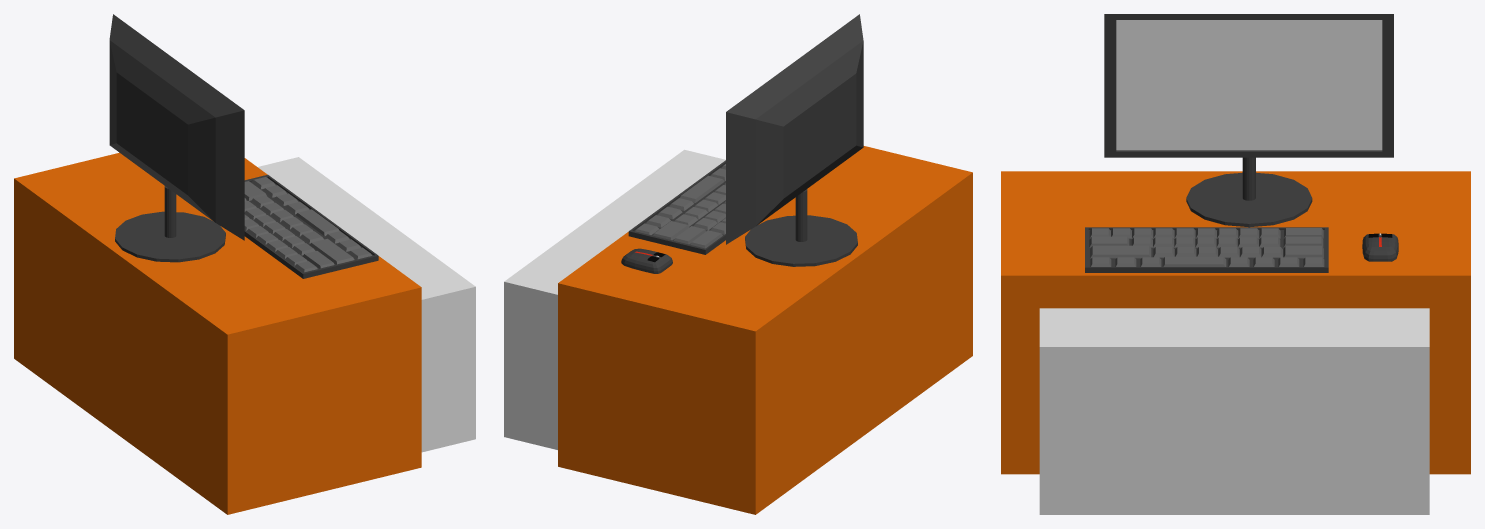
The model's file is Computador.fbx.
The picture shows the model from 3 angles, left to right: view 1: azimuth 30°, elevation 25°; view 2: azimuth 150°, elevation 25°; view 3: azimuth 270°, elevation 25°; orthographic projection. The views are drawn at different scales.
Parts seen in each view (by area): view 1: Cube.004, Cube, Cube.014, Cube.001, Cube.002, Cube.005, Cube.009, Cube.012, Cube.008, Cube.011, Cube.013; view 2: Cube.004, Cube, Cube.014, Cube.001, Cube.007, Cube.012, Cube.009, Cube.013; view 3: Cube.014, Cube.004, Cube, Cube.001, Cube.002, Cube.005, Cube.009, Cube.007, Cube.012, Cube.008, Cube.006, Cube.013 (+2 smaller).
Boxes of the visible parts, x1,y1,x2,y2 form: Cube.004: (14, 152, 421, 514); Cube: (109, 14, 244, 262); Cube.014: (258, 157, 475, 452); Cube.001: (244, 174, 378, 278); Cube.002: (244, 214, 317, 272); Cube.005: (244, 201, 315, 255); Cube.009: (251, 195, 323, 243); Cube.012: (251, 177, 309, 214); Cube.008: (309, 238, 354, 264); Cube.011: (325, 231, 371, 259); Cube.013: (296, 209, 339, 236); Cube.004: (558, 146, 972, 514); Cube: (726, 14, 863, 266); Cube.014: (504, 149, 725, 449); Cube.001: (628, 160, 725, 254); Cube.007: (621, 248, 672, 273); Cube.012: (635, 198, 693, 234); Cube.009: (674, 183, 725, 226); Cube.013: (680, 175, 724, 202); Cube.014: (1039, 308, 1429, 514); Cube.004: (1001, 171, 1470, 474); Cube: (1104, 14, 1393, 227); Cube.001: (1085, 227, 1328, 272); Cube.002: (1089, 228, 1280, 238); Cube.005: (1131, 237, 1280, 247); Cube.009: (1153, 247, 1282, 257); Cube.007: (1362, 233, 1398, 261); Cube.012: (1228, 257, 1324, 266); Cube.008: (1090, 245, 1151, 258); Cube.006: (1089, 236, 1323, 247); Cube.013: (1162, 256, 1226, 266).
Bounding box in the file's own units: 1691 × 2167 × 2351.
